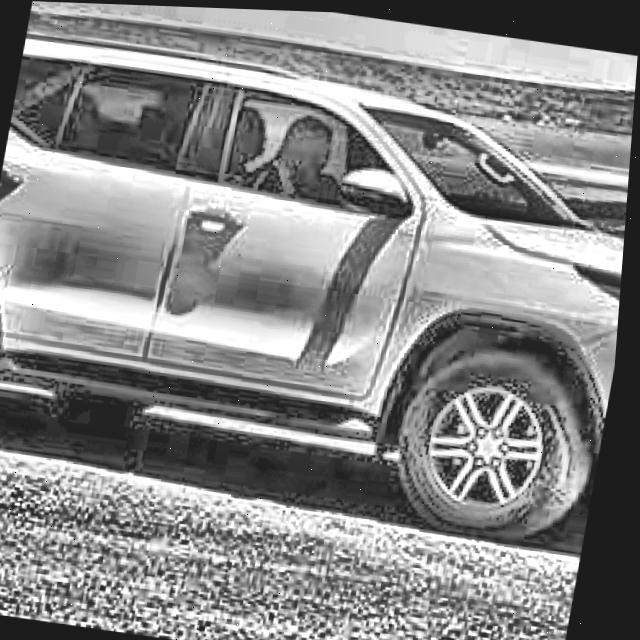light_vehicle: (0, 29, 638, 545)
